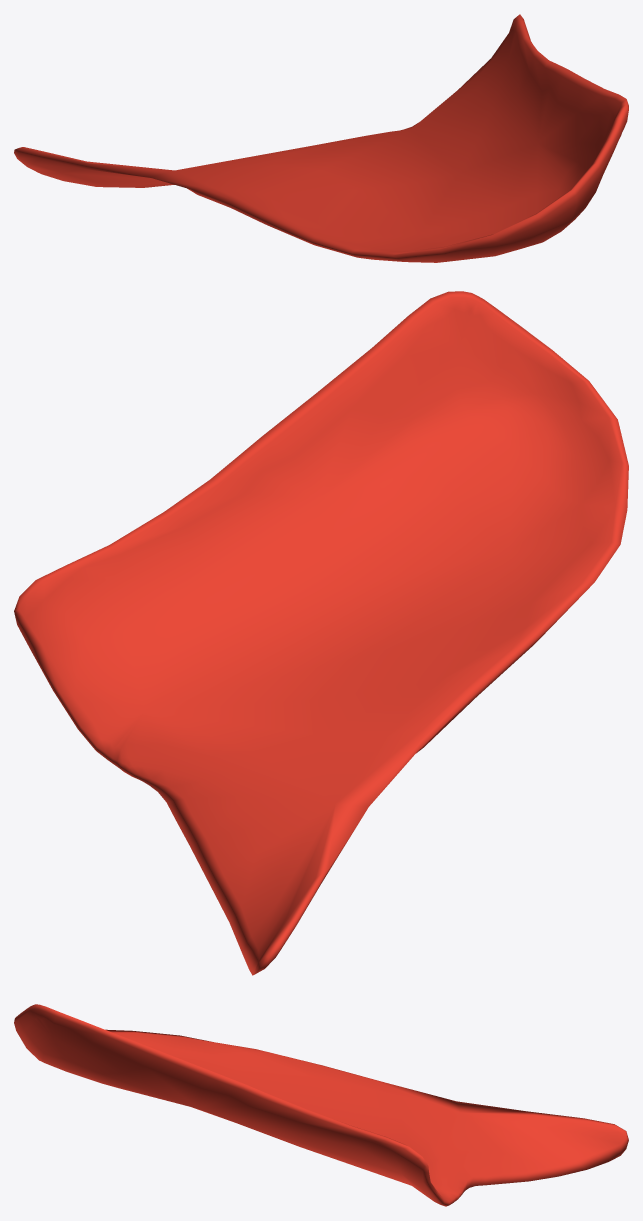
Rendered from Quadratus_plantae_muscle_on_plantar_surface_of_calcaneus.r_Gene.glb.
3 views of the same model, one above another, from view 1: azimuth 30°, elevation 25°; view 2: azimuth 150°, elevation 25°; view 3: azimuth 270°, elevation 25° (orthographic). The views are drawn at different scales.
Parts seen in each view (by area): view 1: Quadratus_plantae_muscle_on_plantar_surface_of_calcaneus.r_G; view 2: Quadratus_plantae_muscle_on_plantar_surface_of_calcaneus.r_G; view 3: Quadratus_plantae_muscle_on_plantar_surface_of_calcaneus.r_G.
Boxes of the visible parts, x1,y1,x2,y2 form: Quadratus_plantae_muscle_on_plantar_surface_of_calcaneus.r_G: (14,14,628,262); Quadratus_plantae_muscle_on_plantar_surface_of_calcaneus.r_G: (14,291,628,975); Quadratus_plantae_muscle_on_plantar_surface_of_calcaneus.r_G: (14,1004,628,1206).
Size of the model in its own units: 0.0174 by 0.0135 by 0.0334.
